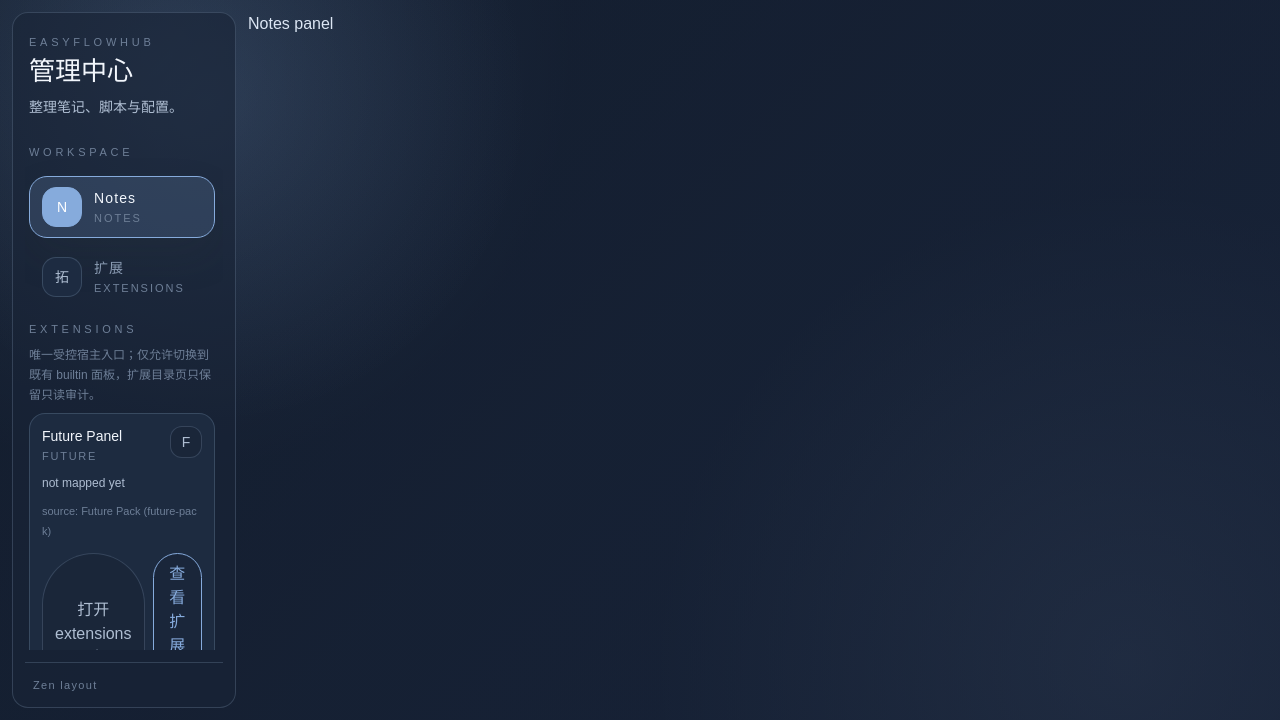
Test: ManagerPage › 在页面级联动中通过 extension entry 详情按钮切换到 extensions 面板并派发打开事件
Expected: the text "Future Panel" is shown, [42, 426, 122, 446]
Expected: the text "Notes panel" is shown, [248, 15, 333, 32]
Click the button "查看扩展详情" at point(177, 634), box [152, 553, 202, 715]
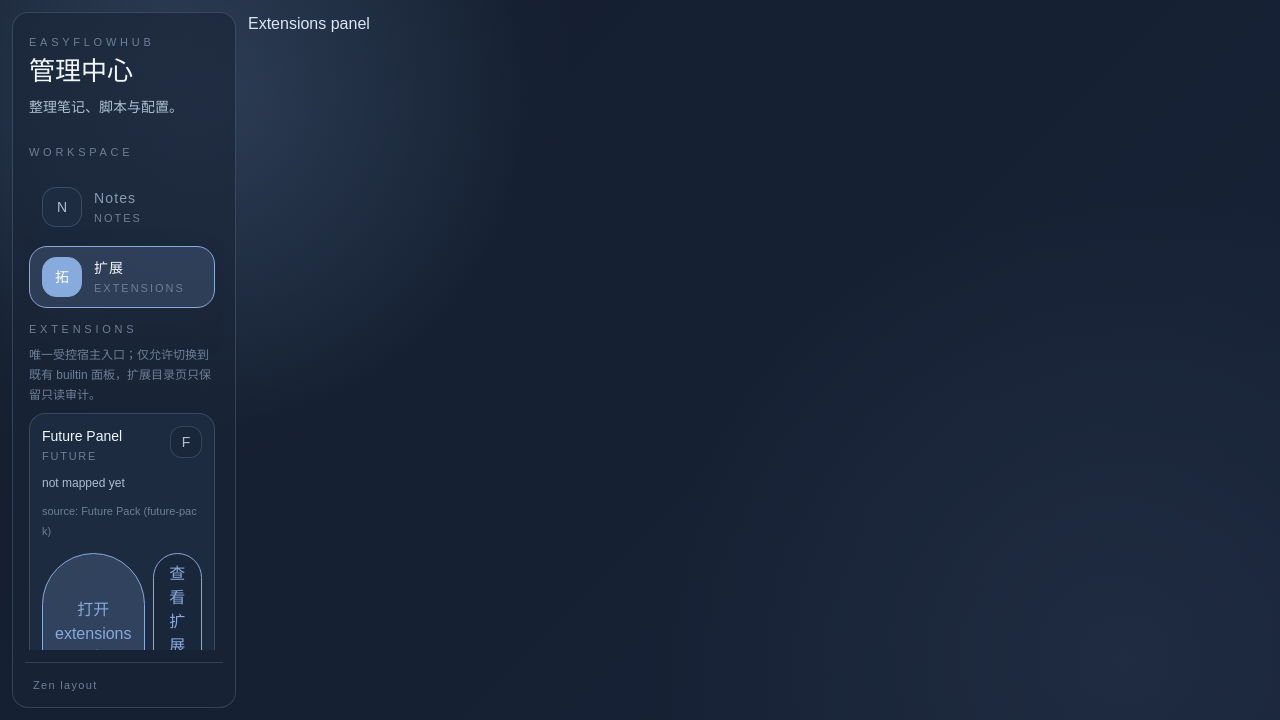
Expected: the text "Extensions panel" is shown, [248, 15, 370, 32]
